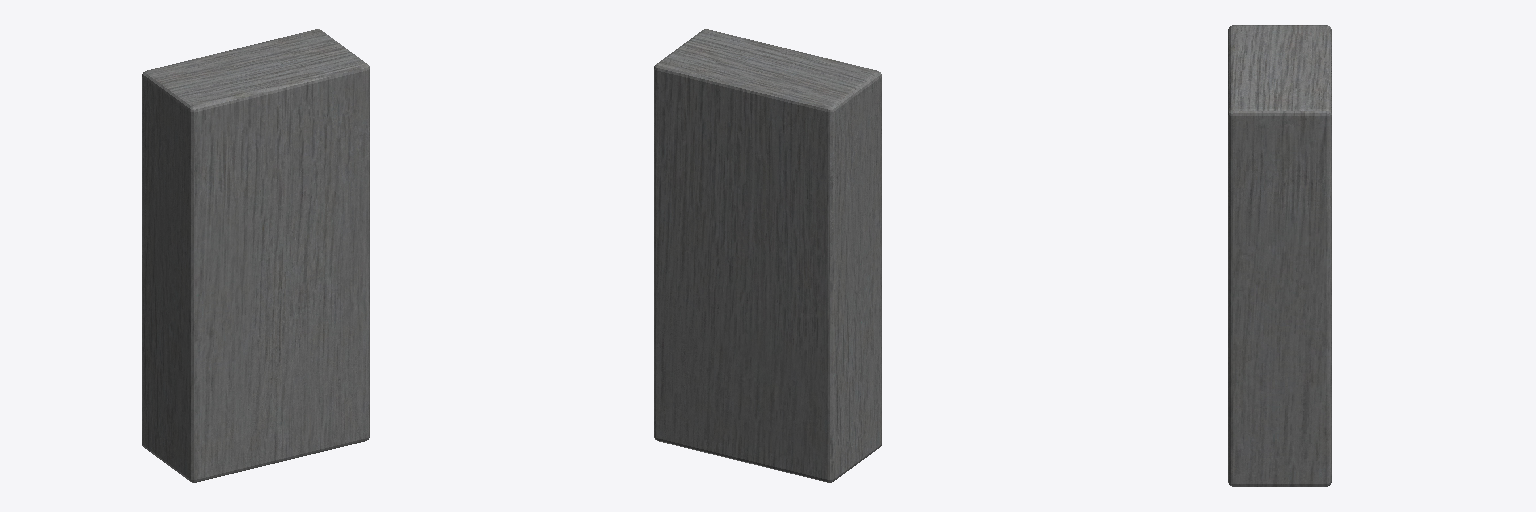
3 renders of one model, left to right at view 1: azimuth 30°, elevation 25°; view 2: azimuth 150°, elevation 25°; view 3: azimuth 270°, elevation 25°, orthographic.
Parts seen in each view (by area): view 1: pCube1; view 2: pCube1; view 3: pCube1.
Boxes of the visible parts, x1=… form: pCube1: x1=142, y1=29, x2=369, y2=482; pCube1: x1=654, y1=29, x2=881, y2=482; pCube1: x1=1228, y1=25, x2=1331, y2=486.
Bounding box in the file's own units: 200 × 400 × 100.
1 materials, 1 textured.